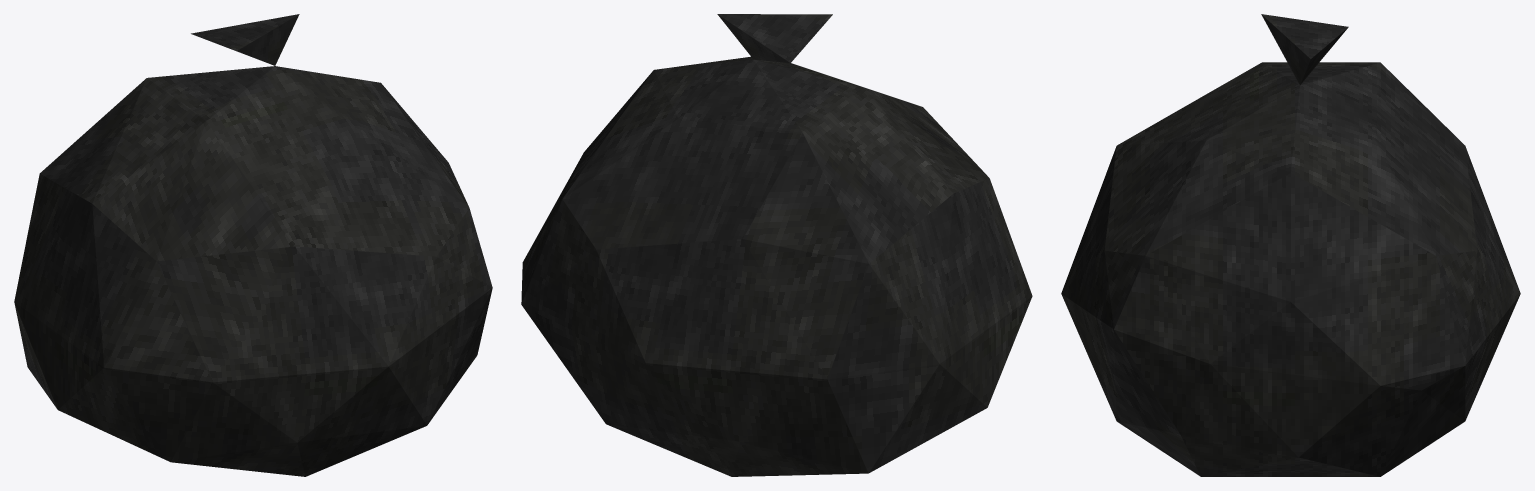
File: trashbag_3.glb
3 views of the same model, side by side, from view 1: azimuth 30°, elevation 25°; view 2: azimuth 150°, elevation 25°; view 3: azimuth 270°, elevation 25° (orthographic). The views are drawn at different scales.
Visible parts, largest first — view 1: TrashBag2/3Full; view 2: TrashBag2/3Full; view 3: TrashBag2/3Full.
Part boxes in pixels (x1,y1,x2,y2): TrashBag2/3Full: (14,14,492,476); TrashBag2/3Full: (521,14,1032,476); TrashBag2/3Full: (1061,14,1520,476).
Size of the model in its own units: 0.8038 by 0.807 by 0.7909.
1 material, 1 textured.
